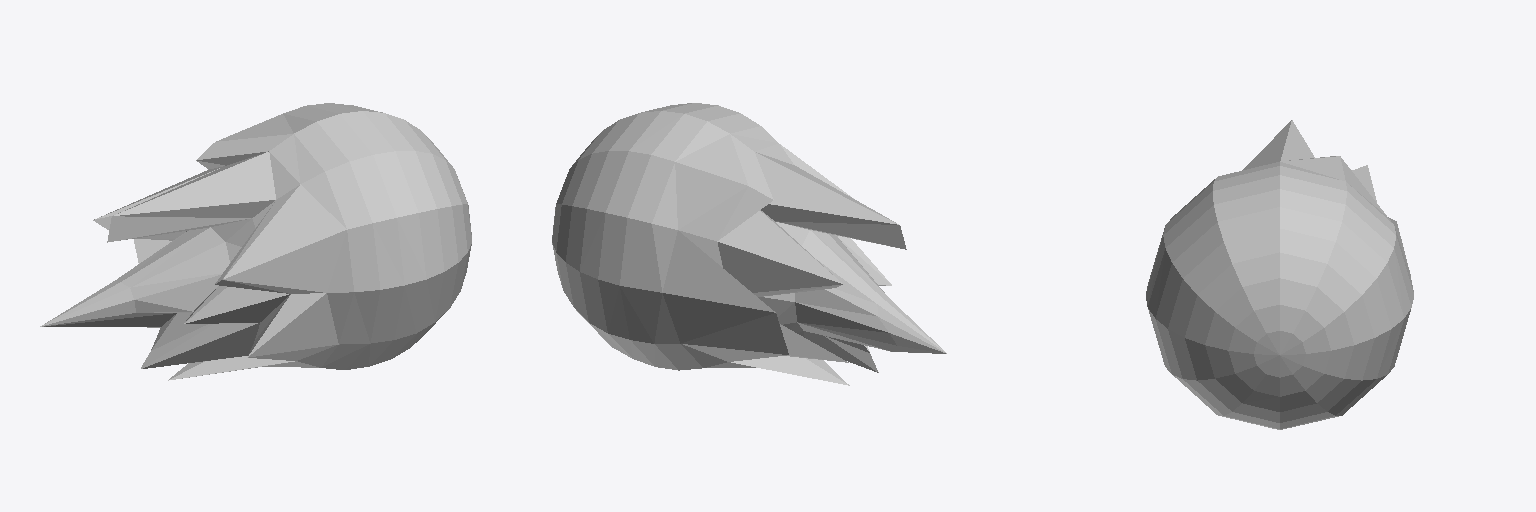
The model's file is projectile.obj.
3 views of the same model, side by side, from view 1: azimuth 30°, elevation 25°; view 2: azimuth 150°, elevation 25°; view 3: azimuth 270°, elevation 25° (orthographic).
Visible parts, largest first — view 1: Sphere; view 2: Sphere; view 3: Sphere.
Boxes of the visible parts, x1,y1,x2,y2 form: Sphere: [40, 103, 471, 380]; Sphere: [552, 103, 946, 385]; Sphere: [1146, 120, 1413, 429].
Bounding box in the file's own units: 0.7093 × 0.4161 × 0.4164.